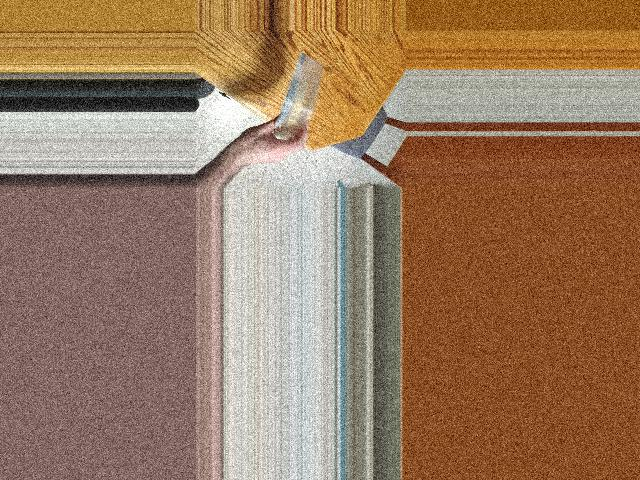cheese: (283, 51, 317, 148)
